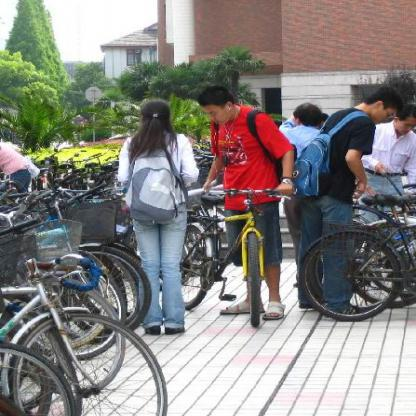person: (195, 85, 298, 322), (113, 100, 204, 336)
